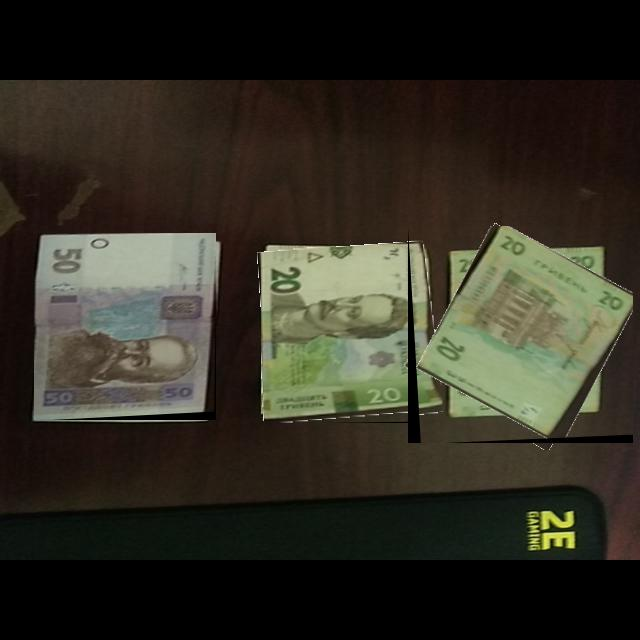20uah: (415, 226, 634, 440), (261, 247, 429, 424)
50uah: (34, 233, 217, 421)
